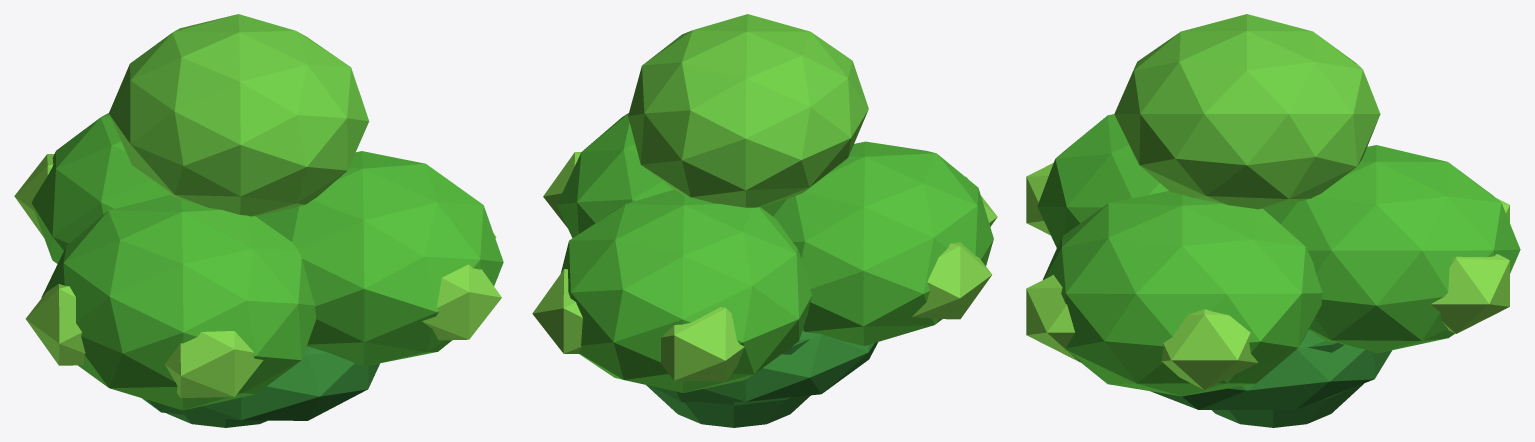
File: OakleafLeaves.obj
3 views of the same model, side by side, from view 1: azimuth 30°, elevation 25°; view 2: azimuth 150°, elevation 25°; view 3: azimuth 270°, elevation 25° (orthographic). The views are drawn at different scales.
Parts seen in each view (by area): view 1: OakleafLeaves_OakLobes, OakleafLeaves_OakCrown, OakleafLeaves_OakScallops, OakleafLeaves_OakBase; view 2: OakleafLeaves_OakLobes, OakleafLeaves_OakCrown, OakleafLeaves_OakScallops, OakleafLeaves_OakBase; view 3: OakleafLeaves_OakLobes, OakleafLeaves_OakCrown, OakleafLeaves_OakScallops, OakleafLeaves_OakBase.
Boxes of the visible parts, x1=… form: OakleafLeaves_OakLobes: x1=31, y1=113, x2=503, y2=410; OakleafLeaves_OakCrown: x1=109, y1=14, x2=369, y2=216; OakleafLeaves_OakScallops: x1=14, y1=154, x2=501, y2=397; OakleafLeaves_OakBase: x1=142, y1=346, x2=379, y2=427; OakleafLeaves_OakLobes: x1=557, y1=113, x2=993, y2=392; OakleafLeaves_OakCrown: x1=628, y1=14, x2=868, y2=207; OakleafLeaves_OakScallops: x1=532, y1=152, x2=997, y2=381; OakleafLeaves_OakBase: x1=646, y1=330, x2=878, y2=427; OakleafLeaves_OakLobes: x1=1037, y1=114, x2=1520, y2=396; OakleafLeaves_OakCrown: x1=1114, y1=14, x2=1380, y2=209; OakleafLeaves_OakScallops: x1=1026, y1=163, x2=1509, y2=389; OakleafLeaves_OakBase: x1=1151, y1=330, x2=1391, y2=427.
Size of the model in its own units: 3.4 by 2.8 by 3.4.
